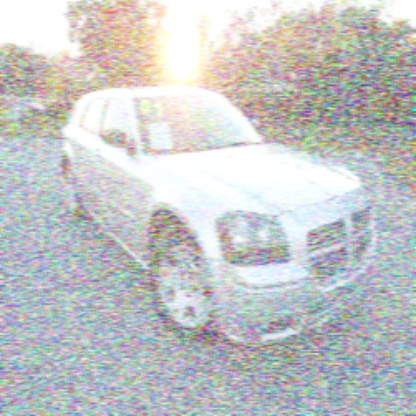Vehicle: (60, 83, 381, 352)
